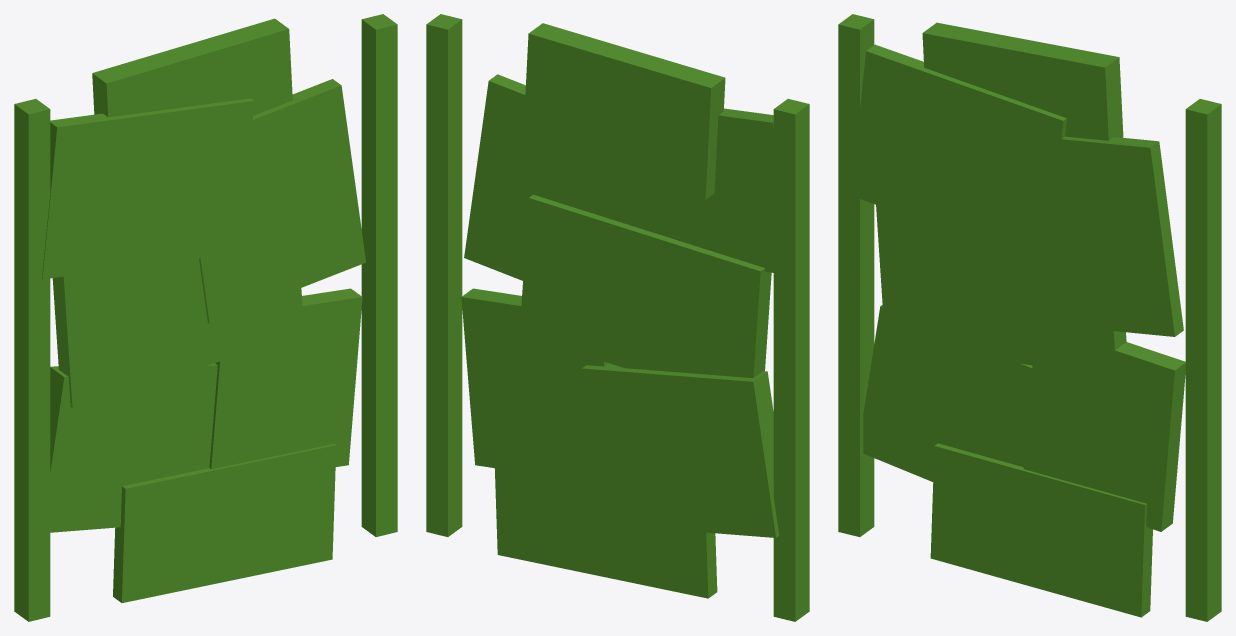
The model's file is portal_core_locked.glb.
The picture shows the model from 3 angles, left to right: view 1: azimuth 30°, elevation 25°; view 2: azimuth 150°, elevation 25°; view 3: azimuth 330°, elevation 25°; orthographic projection.
Visible parts, largest first — view 1: portal_core_locked; view 2: portal_core_locked; view 3: portal_core_locked.
Part boxes in pixels (box(x1,y1,x2,y2)): portal_core_locked: box(14, 14, 397, 621); portal_core_locked: box(426, 14, 809, 621); portal_core_locked: box(838, 14, 1221, 621).
Size of the model in its own units: 2.38 by 3.31 by 0.2.
